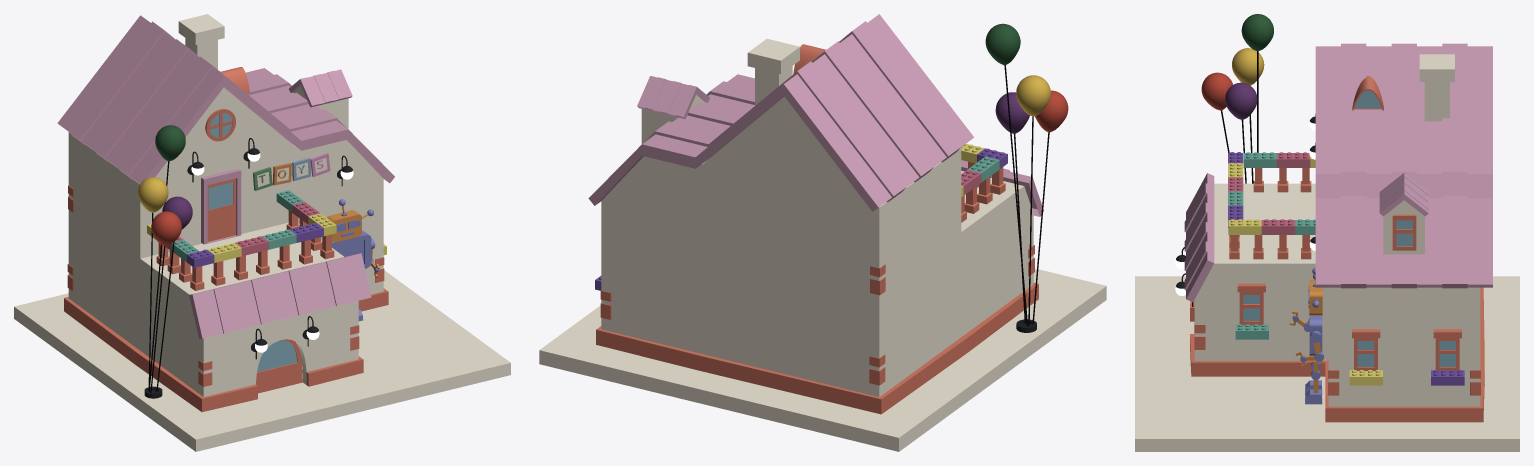
Rendered from toyshop.glb.
3 views of the same model, side by side, from view 1: azimuth 30°, elevation 25°; view 2: azimuth 150°, elevation 25°; view 3: azimuth 270°, elevation 25° (orthographic). The views are drawn at different scales.
Parts seen in each view (by area): view 1: house, floor, mainRoof, 1stFloorRoof, terrace, 3rdFloorHouse, chimney, robot, balloon1, balloon4, balloon2, balloon3; view 2: house, mainRoof, floor, 3rdFloorHouse, terrace, chimney, balloon4, balloon1, balloon2, balloon3, 1stFloorRoof; view 3: mainRoof, house, floor, terrace, 1stFloorRoof, 3rdFloorHouse, robot, chimney, window1, window3, window2, balloon4 (+3 smaller).
Boxes of the visible parts, x1=… form: house: x1=64, y1=67, x2=388, y2=411; floor: x1=14, y1=270, x2=510, y2=451; mainRoof: x1=57, y1=15, x2=394, y2=183; 1stFloorRoof: x1=189, y1=253, x2=371, y2=339; terrace: x1=147, y1=190, x2=336, y2=290; 3rdFloorHouse: x1=289, y1=69, x2=352, y2=129; chimney: x1=178, y1=14, x2=224, y2=69; robot: x1=322, y1=199, x2=379, y2=321; balloon1: x1=138, y1=177, x2=168, y2=391; balloon4: x1=150, y1=125, x2=185, y2=386; balloon2: x1=150, y1=211, x2=181, y2=392; balloon3: x1=156, y1=196, x2=192, y2=391; house: x1=596, y1=44, x2=1038, y2=414; mainRoof: x1=588, y1=14, x2=973, y2=211; floor: x1=539, y1=268, x2=1106, y2=451; 3rdFloorHouse: x1=637, y1=76, x2=709, y2=143; terrace: x1=961, y1=144, x2=1007, y2=222; chimney: x1=747, y1=38, x2=799, y2=105; balloon4: x1=985, y1=23, x2=1027, y2=326; balloon1: x1=1016, y1=75, x2=1050, y2=325; balloon2: x1=1032, y1=90, x2=1068, y2=323; balloon3: x1=995, y1=92, x2=1029, y2=323; 1stFloorRoof: x1=961, y1=160, x2=1043, y2=216; mainRoof: x1=1315, y1=43, x2=1492, y2=288; house: x1=1190, y1=76, x2=1484, y2=422; floor: x1=1135, y1=276, x2=1519, y2=451; terrace: x1=1228, y1=152, x2=1315, y2=259; 1stFloorRoof: x1=1184, y1=173, x2=1214, y2=301; 3rdFloorHouse: x1=1379, y1=172, x2=1428, y2=254; robot: x1=1289, y1=267, x2=1323, y2=404; chimney: x1=1419, y1=54, x2=1454, y2=121; window1: x1=1431, y1=329, x2=1464, y2=385; window3: x1=1235, y1=283, x2=1268, y2=339; window2: x1=1349, y1=329, x2=1382, y2=385; balloon4: x1=1241, y1=14, x2=1273, y2=152.
Size of the model in its own units: 16.18 by 13.97 by 16.
